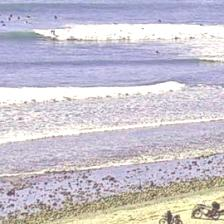surfer: (157, 19, 165, 23), (50, 30, 55, 35), (174, 36, 180, 40), (155, 50, 160, 54), (0, 20, 6, 23), (25, 21, 31, 24), (198, 23, 204, 26), (26, 15, 31, 18), (2, 24, 6, 27), (8, 18, 11, 22), (16, 17, 20, 20), (114, 22, 120, 24), (54, 15, 57, 18), (141, 27, 144, 30), (0, 13, 2, 17), (10, 13, 12, 17), (120, 29, 122, 31)
